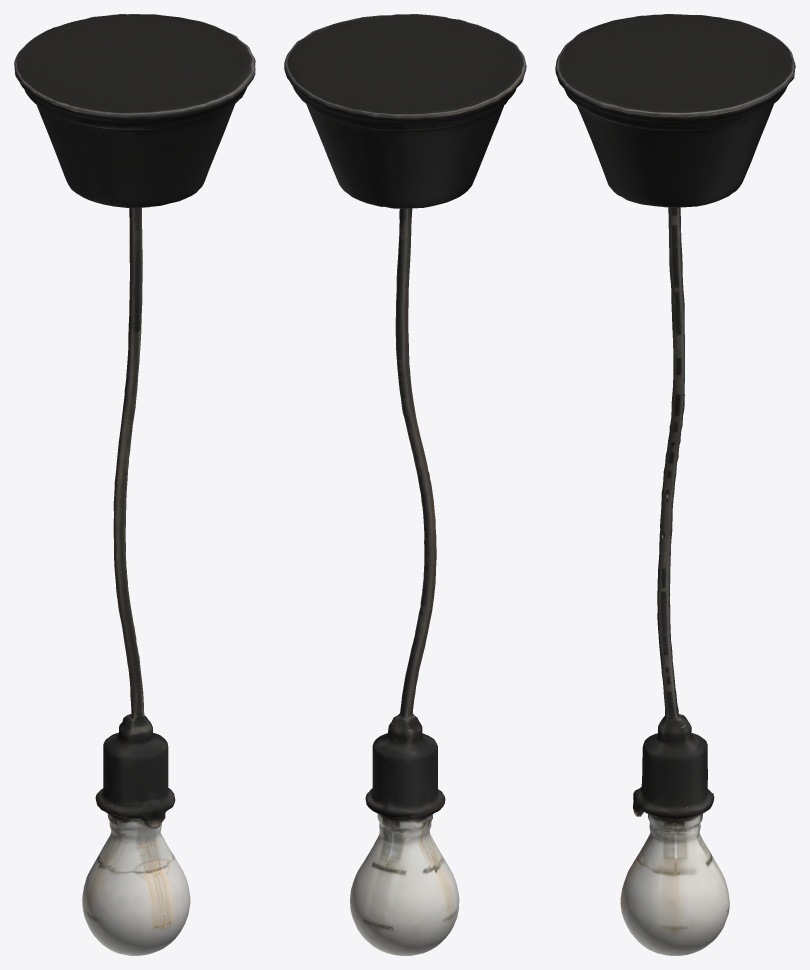
File: Meshy_AI_Bare_Bulb_Pendant_0318174525_texture.glb
3 views of the same model, side by side, from view 1: azimuth 30°, elevation 25°; view 2: azimuth 150°, elevation 25°; view 3: azimuth 270°, elevation 25° (orthographic).
Size of the model in its own units: 0.4952 by 2.01 by 0.493.
Materials: 1 (1 with a texture image).
